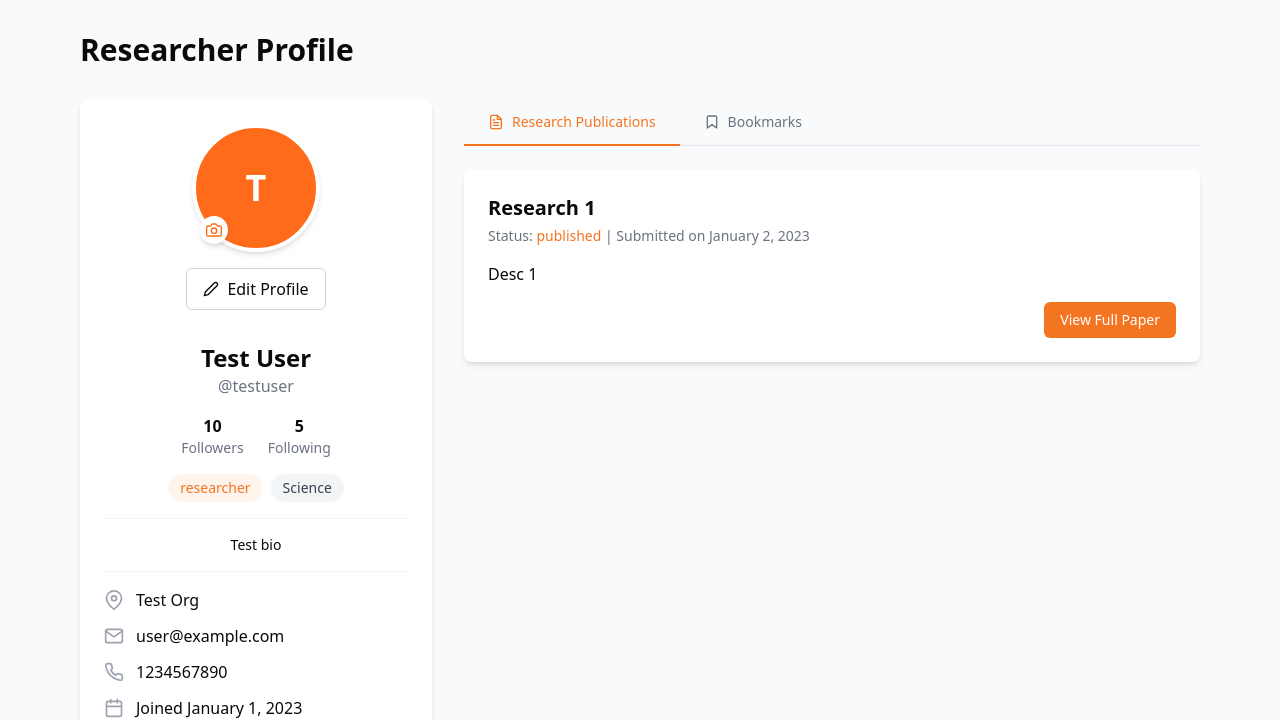
Test case: ResearcherProfilePage › toggles between research and bookmarks tabs
Expected: the heading "Research 1" is shown, [488,194,596,221]
Step 1. Click the button "Bookmarks" → (753, 123), box [680,100,826,146]
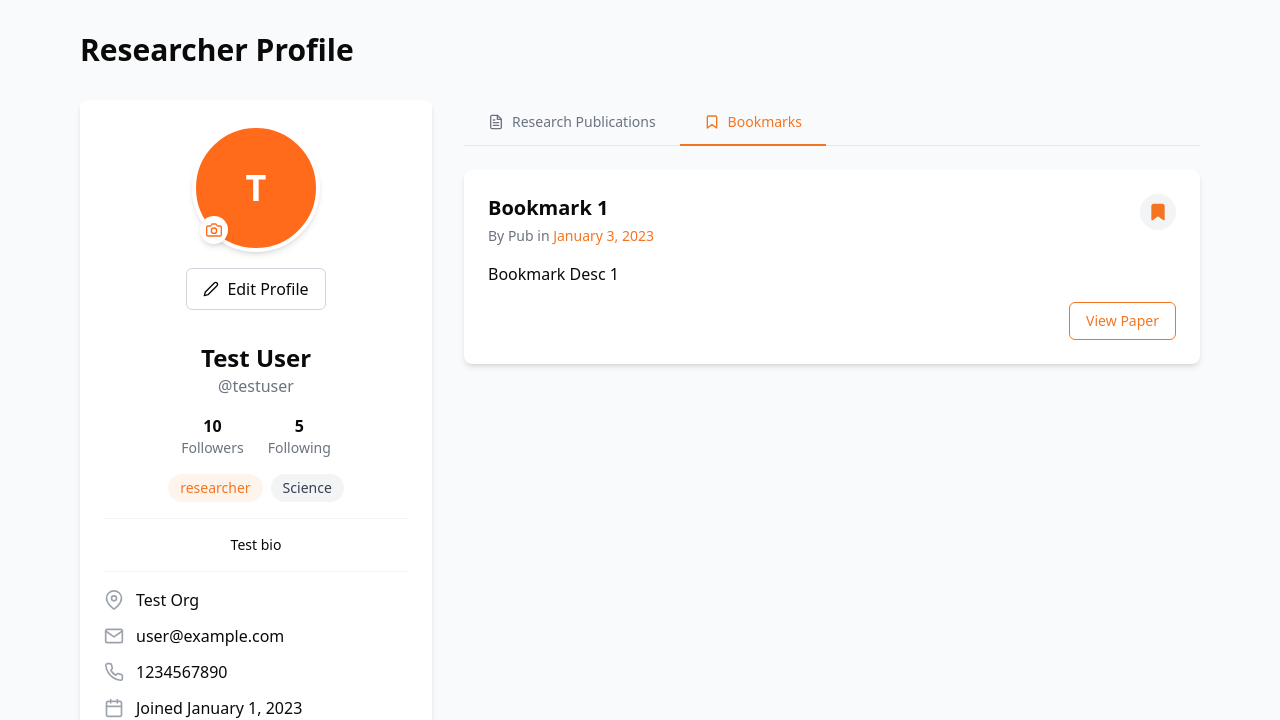
Now the heading "Bookmark 1" is shown, box [488,194,608,221]
